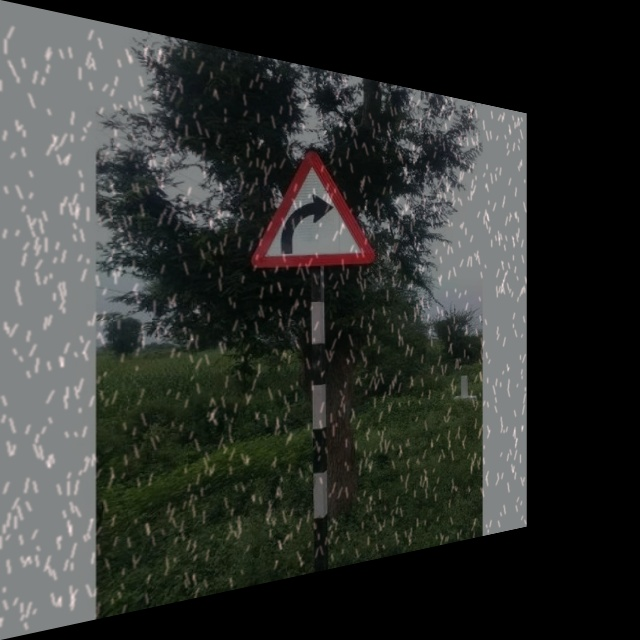Right_Hand_Curve: (247, 140, 380, 271)
